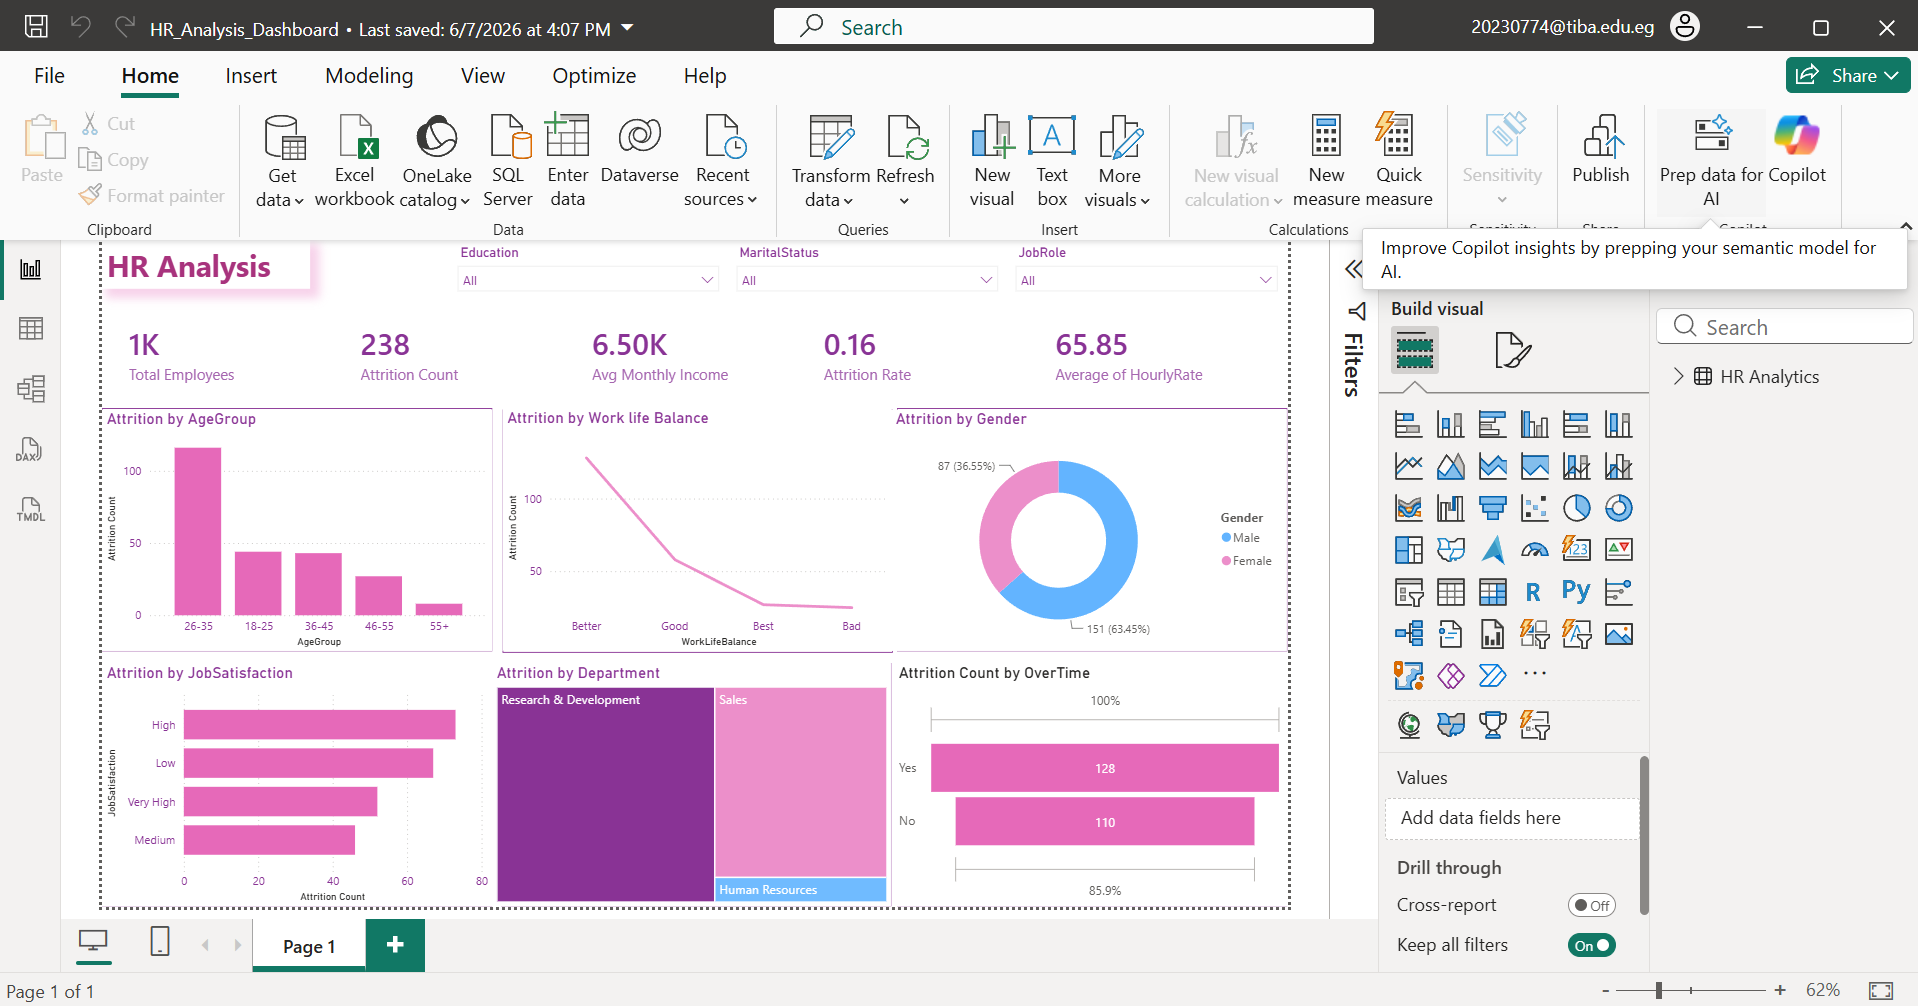

The page's visual inventory and layout, read from the dashboard file:
{"tool":"powerbi","page":{"name":"Page 1","canvas":[1280,720],"ordinal":0},"visuals":[{"type":"cardVisual","fields":{"Data":["HR Analytics.Total Employees","HR Analytics.Attrition Count","HR Analytics.Monthly Income","HR Analytics.Attrition Rate","Avg(HR Analytics.HourlyRate)"]},"box":[0,64.3,1279.4,115.3],"z":0},{"type":"textbox","box":[0,0,224.9,52.9],"z":1000},{"type":"shape","box":[0,181.4,421.4,262.7],"z":2000},{"type":"shape","box":[432.8,183.3,421.4,262.7],"z":3000},{"type":"shape","box":[858,181.4,421.4,262.7],"z":4000},{"type":"shape","box":[430.9,457.3,421.4,262.7],"z":5000},{"type":"shape","box":[858,457.3,421.4,262.7],"z":6000},{"type":"shape","box":[0,457.3,421.4,262.7],"z":7000},{"type":"columnChart","title":"Attrition by AgeGroup","fields":{"Category":["HR Analytics.AgeGroup"],"Y":["HR Analytics.Attrition Count"]},"box":[0,183.3,421.4,260.8],"z":8000},{"type":"lineChart","title":"Attrition by Work life Balance","fields":{"Y":["HR Analytics.Attrition Count"],"Category":["HR Analytics.WorkLifeBalance"]},"box":[432,182,420,262],"z":9000},{"type":"clusteredBarChart","title":"Attrition by JobSatisfaction","fields":{"Category":["HR Analytics.JobSatisfaction"],"Y":["HR Analytics.Attrition Count"]},"box":[0,457.3,421.4,262.7],"z":10000},{"type":"funnel","fields":{"Category":["HR Analytics.OverTime"],"Y":["HR Analytics.Attrition Count"]},"box":[854.2,457.3,425.2,262.7],"z":11000},{"type":"donutChart","title":"Attrition by Gender","fields":{"Y":["HR Analytics.Attrition Count"],"Category":["HR Analytics.Gender"]},"box":[852.3,183.3,427.1,260.8],"z":12000},{"type":"treemap","title":"Attrition by Department","fields":{"Group":["HR Analytics.Department"],"Values":["HR Analytics.Attrition Count"]},"box":[421.4,457.3,430.9,262.7],"z":13000},{"type":"slicer","fields":{"Values":["HR Analytics.JobRole"]},"box":[977,0,302.4,64.3],"z":14000},{"type":"slicer","fields":{"Values":["HR Analytics.MaritalStatus"]},"box":[676,0,302,64],"z":15000},{"type":"slicer","fields":{"Values":["HR Analytics.Education"]},"box":[374,0,302,74],"z":16000}]}

Visuals, with their boxes on the page's 1280x720 design canvas (x1, y1, x2, y2). These are canvas units, not pixel positions in the 1918x1006 screenshot, which may show the page scaled, cropped or inside an application window:
cardVisual - HR Analytics.Total Employees x HR Analytics.Attrition Count: bbox=(0, 64, 1279, 180)
textbox: bbox=(0, 0, 225, 53)
shape: bbox=(0, 181, 421, 444)
shape: bbox=(433, 183, 854, 446)
shape: bbox=(858, 181, 1279, 444)
shape: bbox=(431, 457, 852, 720)
shape: bbox=(858, 457, 1279, 720)
shape: bbox=(0, 457, 421, 720)
"Attrition by AgeGroup" columnChart: bbox=(0, 183, 421, 444)
"Attrition by Work life Balance" lineChart: bbox=(432, 182, 852, 444)
"Attrition by JobSatisfaction" clusteredBarChart: bbox=(0, 457, 421, 720)
funnel - HR Analytics.OverTime x HR Analytics.Attrition Count: bbox=(854, 457, 1279, 720)
"Attrition by Gender" donutChart: bbox=(852, 183, 1279, 444)
"Attrition by Department" treemap: bbox=(421, 457, 852, 720)
slicer - HR Analytics.JobRole: bbox=(977, 0, 1279, 64)
slicer - HR Analytics.MaritalStatus: bbox=(676, 0, 978, 64)
slicer - HR Analytics.Education: bbox=(374, 0, 676, 74)
